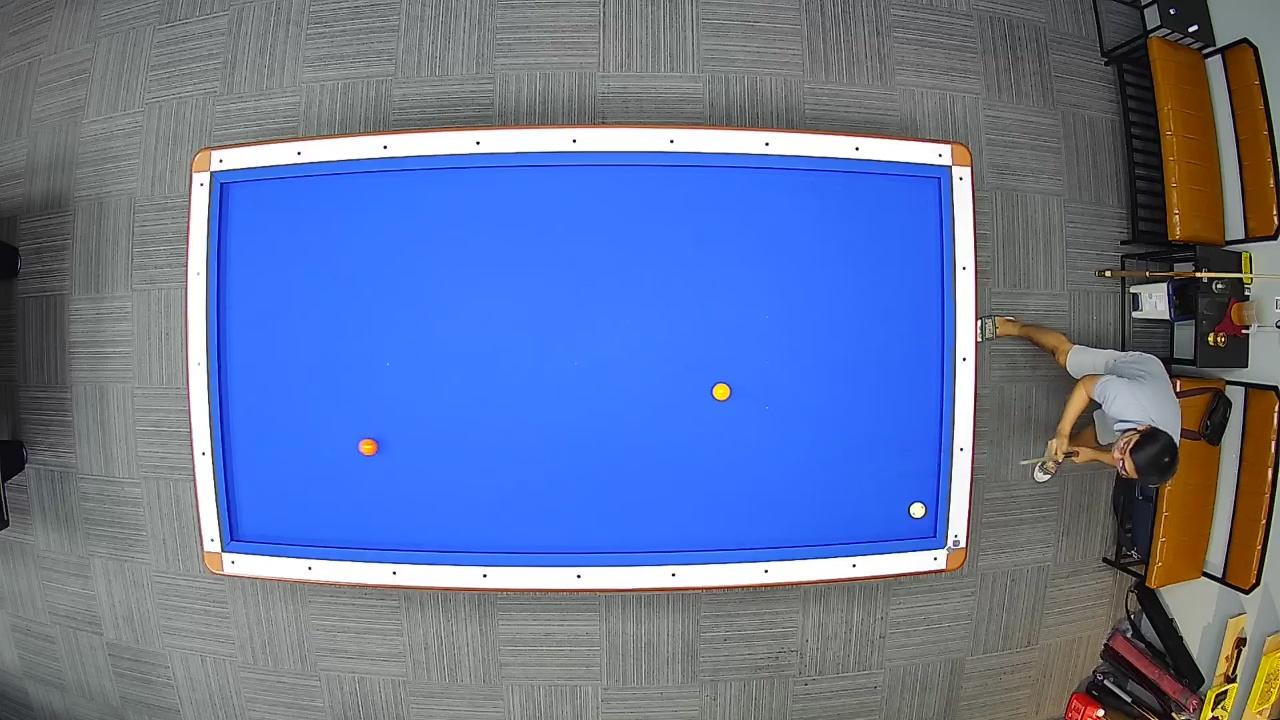Orange: (356, 435, 382, 460)
White: (908, 500, 926, 520)
Yellow: (710, 379, 734, 405)
